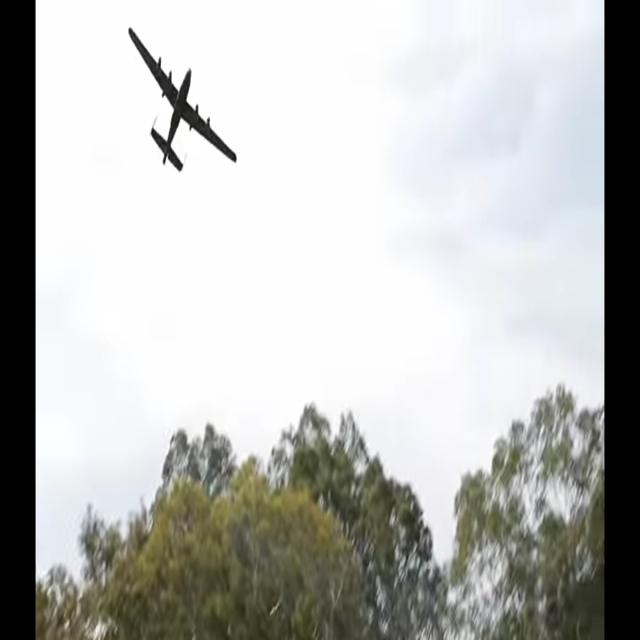iha: (159, 0, 205, 109)
